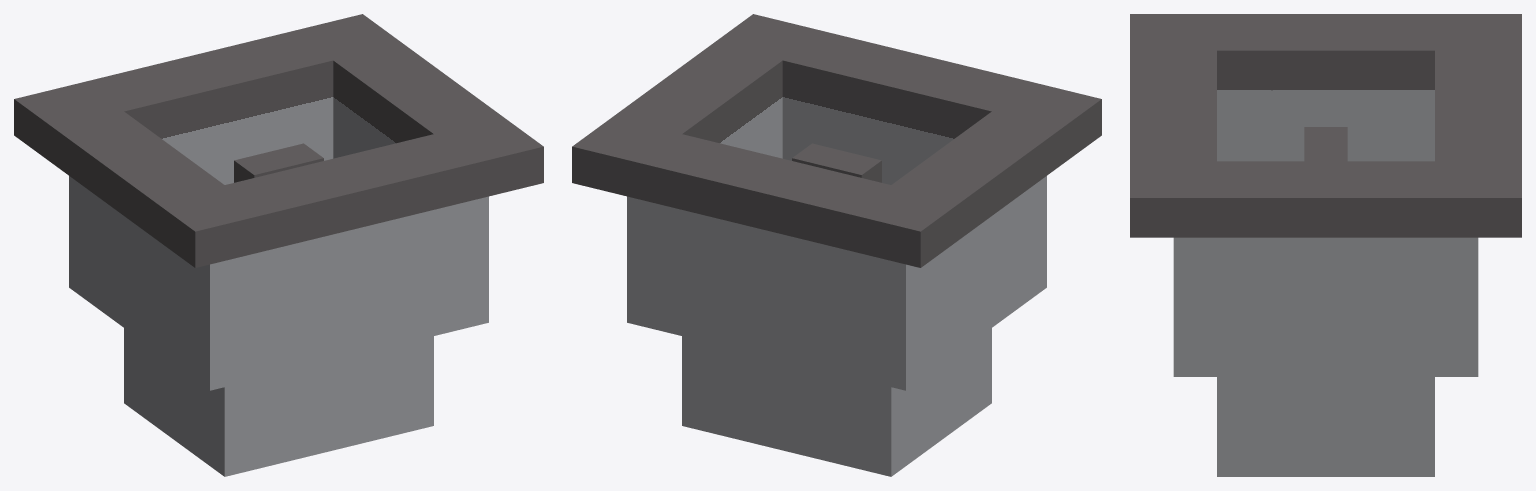
The model's file is Tannoy.dae.
3 renders of one model, left to right at view 1: azimuth 30°, elevation 25°; view 2: azimuth 150°, elevation 25°; view 3: azimuth 270°, elevation 25°, orthographic. The views are drawn at different scales.
Visible parts, largest first — view 1: Tannoy; view 2: Tannoy; view 3: Tannoy.
Boxes of the visible parts, x1=… form: Tannoy: x1=14, y1=14, x2=543, y2=476; Tannoy: x1=572, y1=14, x2=1101, y2=476; Tannoy: x1=1130, y1=14, x2=1521, y2=476.
Bounding box in the file's own units: 10 × 8 × 9.
Materials: 1 (1 with a texture image).
